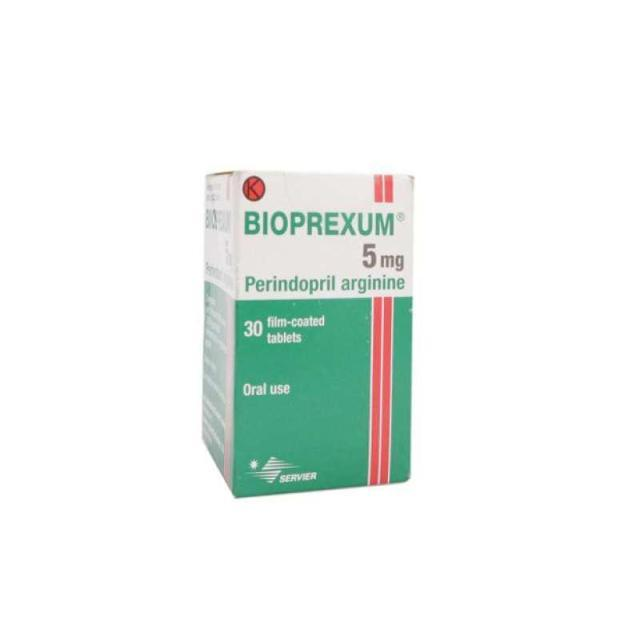drug-name: (240, 208, 396, 236)
